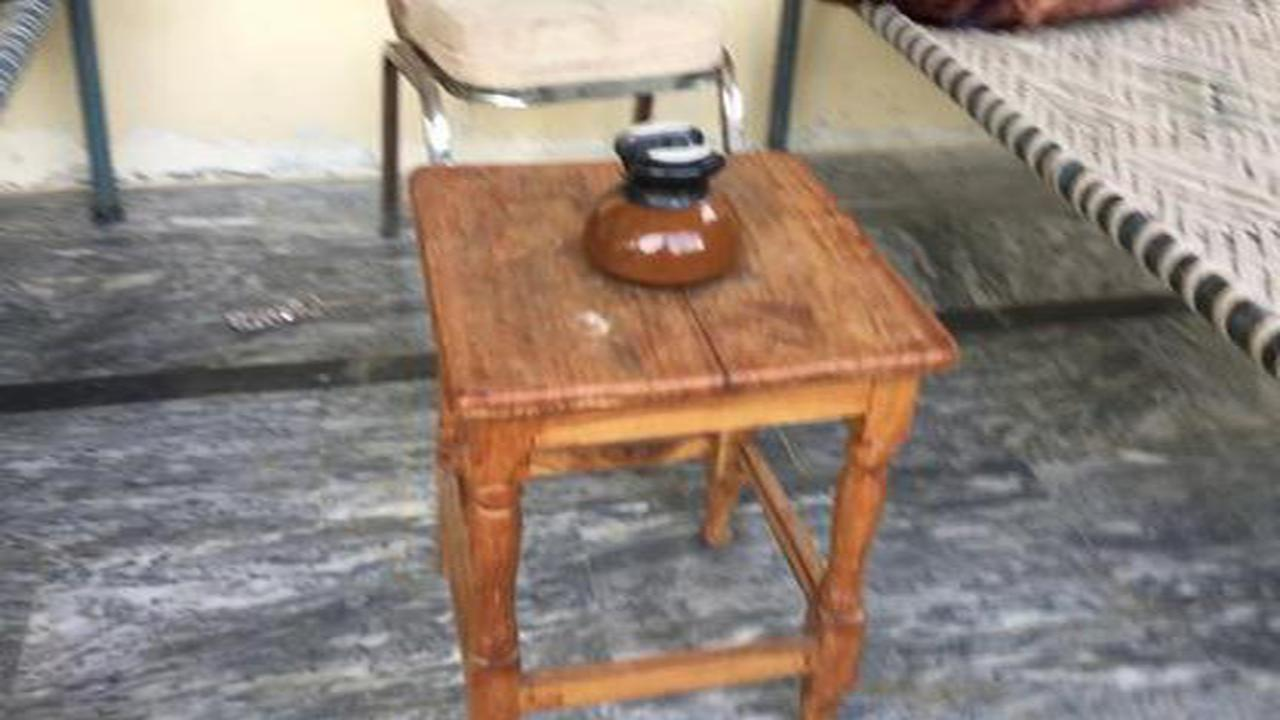insulator_pin: (564, 108, 764, 295)
